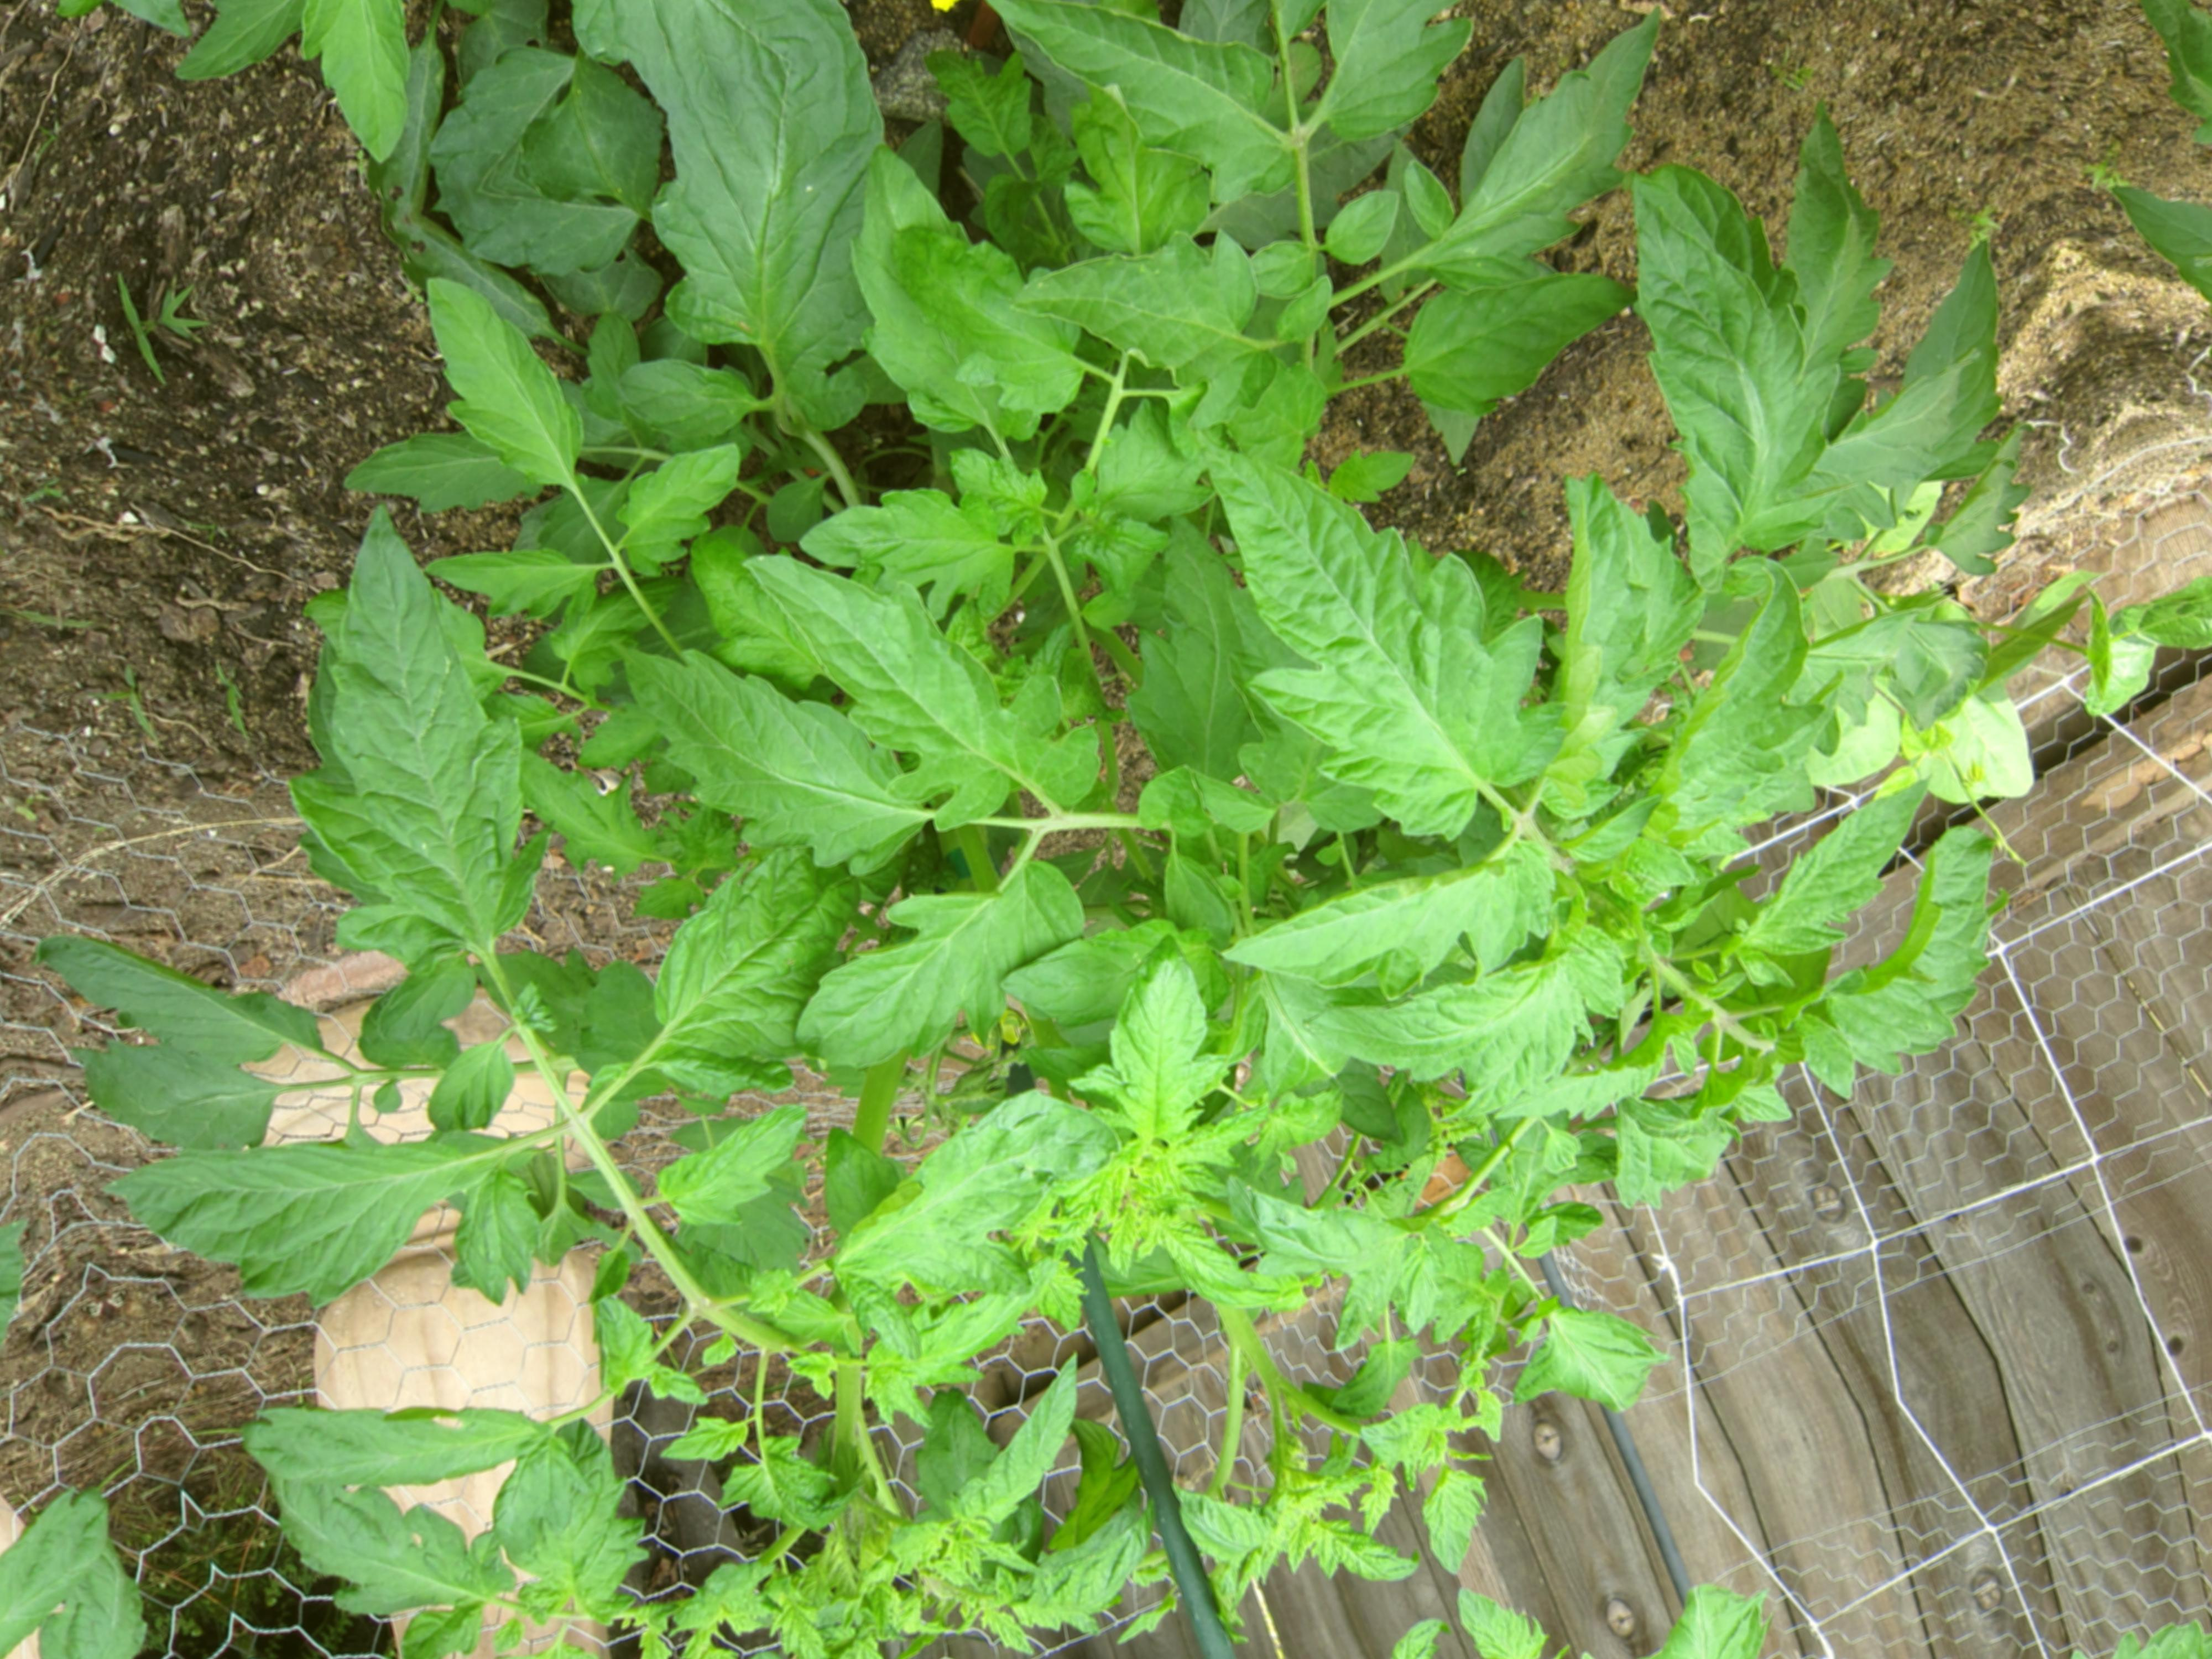Tomato leaf: (200, 441, 603, 983), (1540, 122, 1898, 640), (1181, 397, 1562, 864), (125, 993, 578, 1384), (723, 1056, 1186, 1389), (597, 51, 965, 441), (603, 565, 948, 955), (1721, 789, 2078, 1133), (1043, 476, 1348, 871), (1308, 854, 1700, 1154), (742, 796, 1123, 1103), (211, 1258, 563, 1577), (1449, 472, 1750, 828), (1207, 765, 1571, 1056), (23, 843, 348, 1166), (728, 479, 1015, 843), (1372, 5, 1709, 305), (1750, 253, 2078, 556), (961, 0, 1329, 270), (996, 139, 1320, 444), (860, 152, 1139, 476), (1566, 659, 1890, 920), (1665, 737, 1972, 1009), (742, 401, 1042, 662), (857, 1319, 1141, 1579), (1231, 1117, 1510, 1380), (1437, 960, 1737, 1190), (1359, 218, 1648, 453), (1202, 824, 1531, 1018), (1240, 0, 1590, 166), (1043, 924, 1261, 1176), (622, 1080, 857, 1255), (1484, 1248, 1684, 1443)
